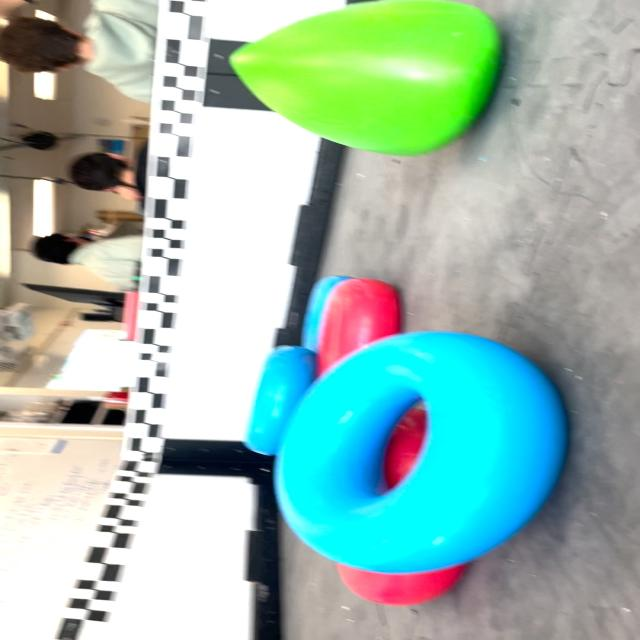Blue-Ring: (281, 329, 573, 572), (244, 346, 316, 455), (302, 275, 351, 351)
Red-Ring: (318, 279, 400, 374)
